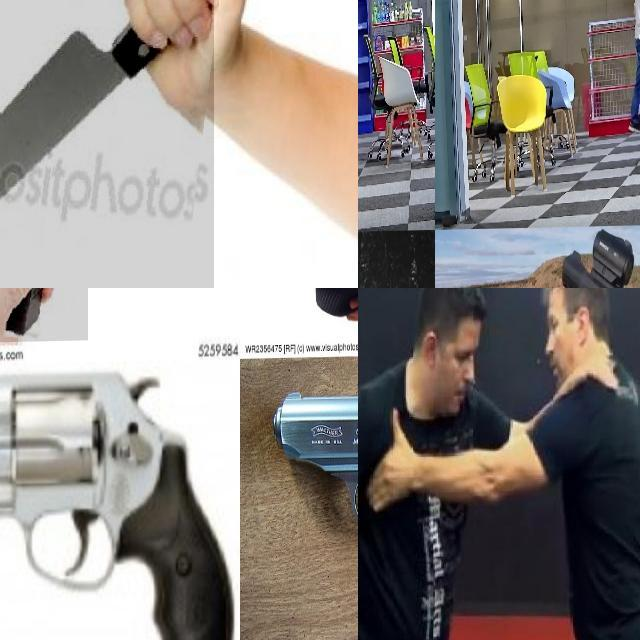-: (0, 0, 213, 288)
gun-knife-thesis - v11 Yolov5 augmented: (0, 361, 235, 640), (271, 386, 358, 640), (0, 288, 88, 418), (285, 288, 337, 314), (358, 46, 367, 69)
